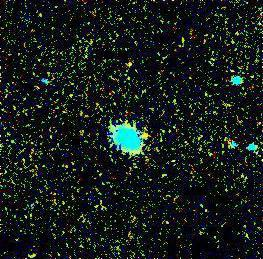star: (132, 122, 162, 152)
